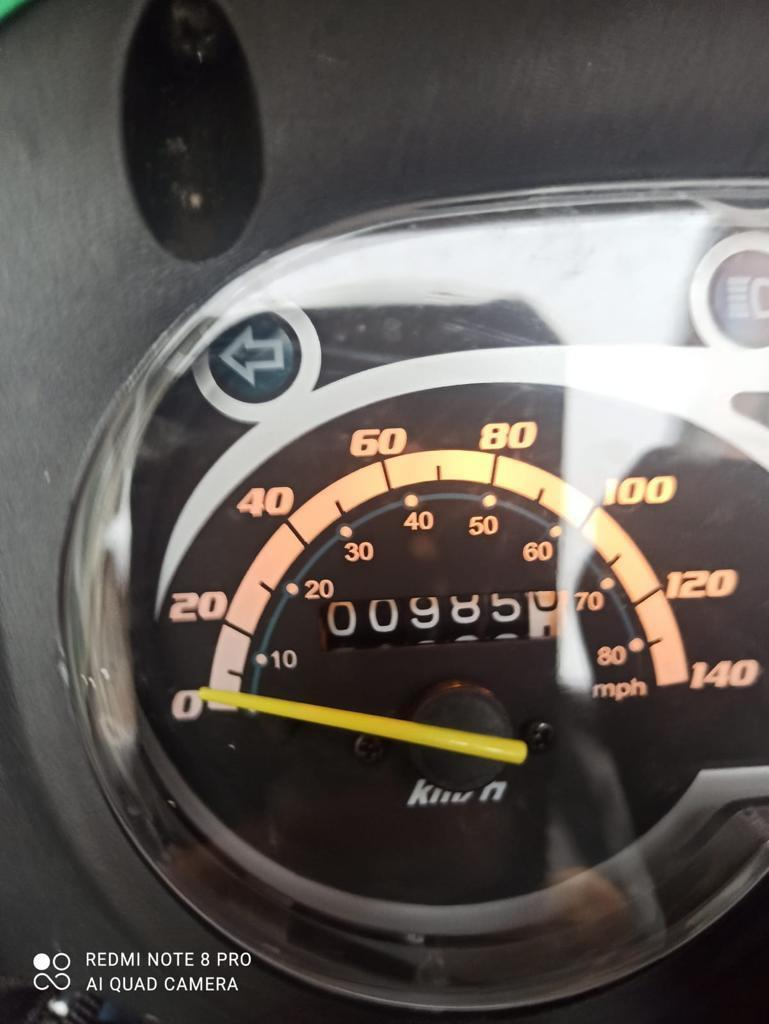0: (366, 594, 398, 635), (326, 600, 359, 639), (532, 588, 563, 619), (321, 579, 335, 598)
5: (488, 589, 524, 627)
8: (448, 590, 482, 628)
9: (409, 592, 443, 633)
odometer: (318, 579, 569, 652)
